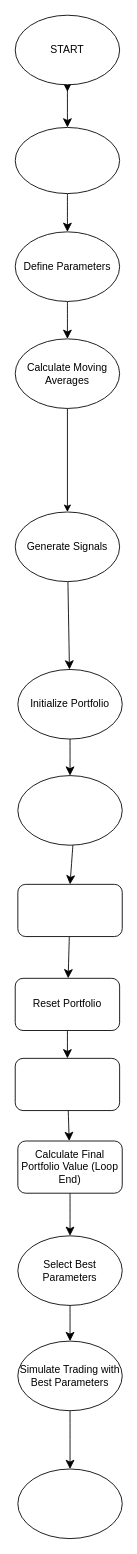
Some shapes in this 137 by 1554 pixel diagram are drawn without their labels. Each missing label, with the box of its shape:
End of Simulation: (17, 1468, 122, 1539)
Load Data: (14, 127, 120, 194)
Loop Start: (17, 883, 122, 937)
Optimize Parameters (Loop): (17, 775, 122, 845)
Simulate Trading: (14, 1057, 120, 1111)
